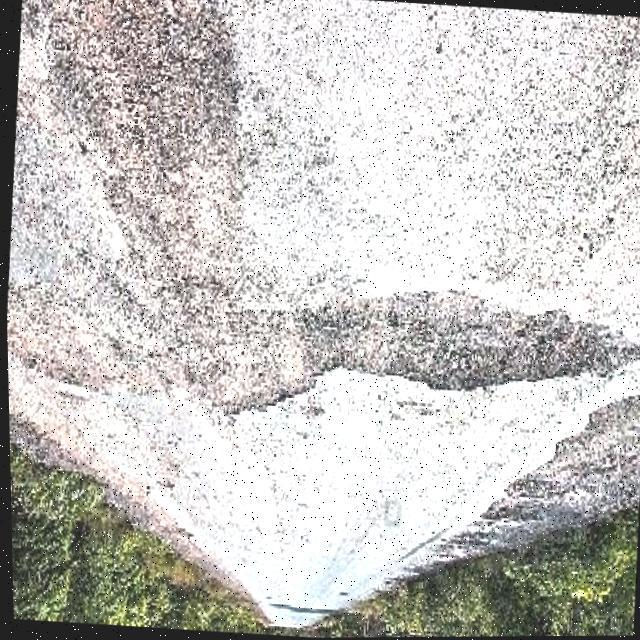pothole: (214, 269, 640, 445)
